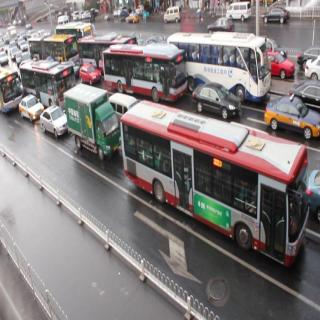BigCar: (121, 100, 308, 286), (185, 30, 271, 98), (62, 88, 120, 174), (103, 47, 188, 101), (22, 62, 72, 110), (0, 67, 21, 114)
Car: (265, 93, 317, 142), (190, 83, 242, 121), (269, 47, 295, 87), (40, 107, 67, 142), (19, 95, 43, 127), (262, 5, 292, 28), (79, 62, 102, 88), (226, 2, 252, 24), (162, 7, 184, 23), (125, 10, 141, 27)
